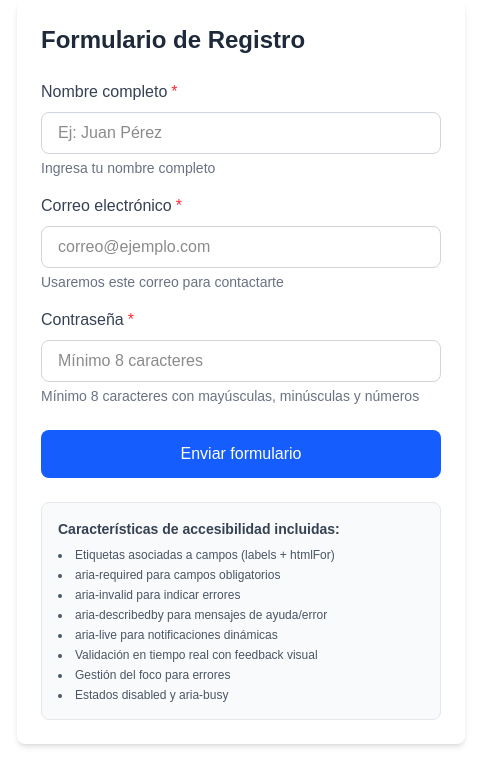
Test: AccessibleForm › Validación de campos › muestra error cuando el email es inválido
Type "correo-invalido" into the field labelled "Correo electrónico*" at (241, 247), box [41,226,441,268]
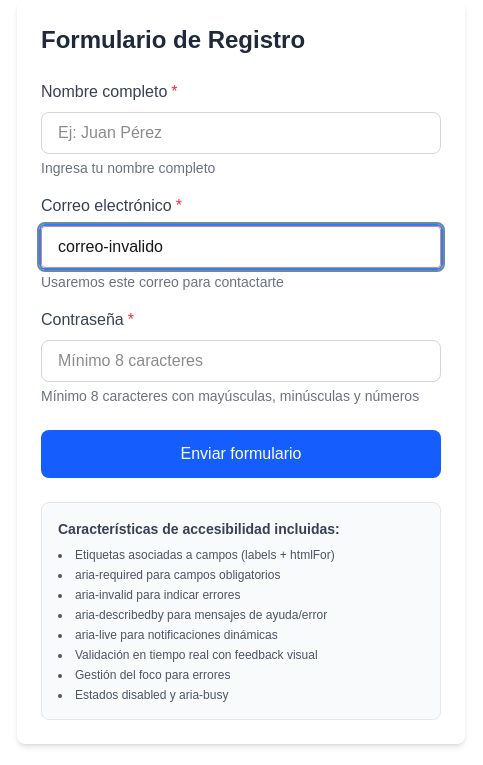
Leave the field labelled "Correo electrónico*", box [41,226,441,268]
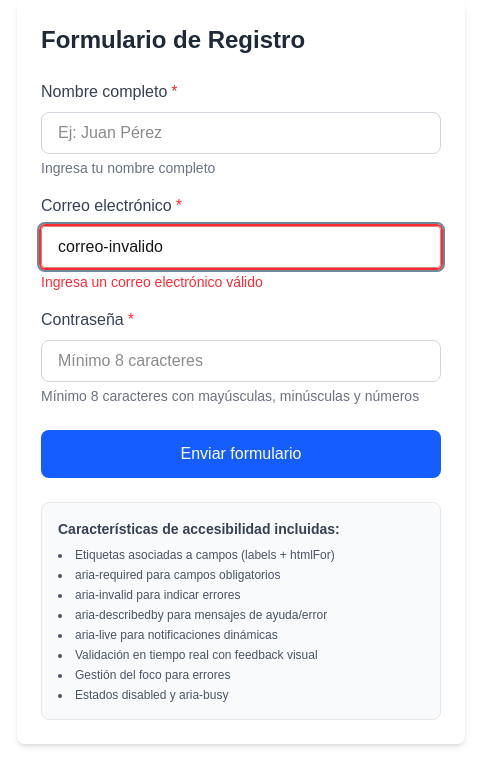
expect the text "Ingresa un correo electrónico válido" is shown: met, box [41,274,263,290]
